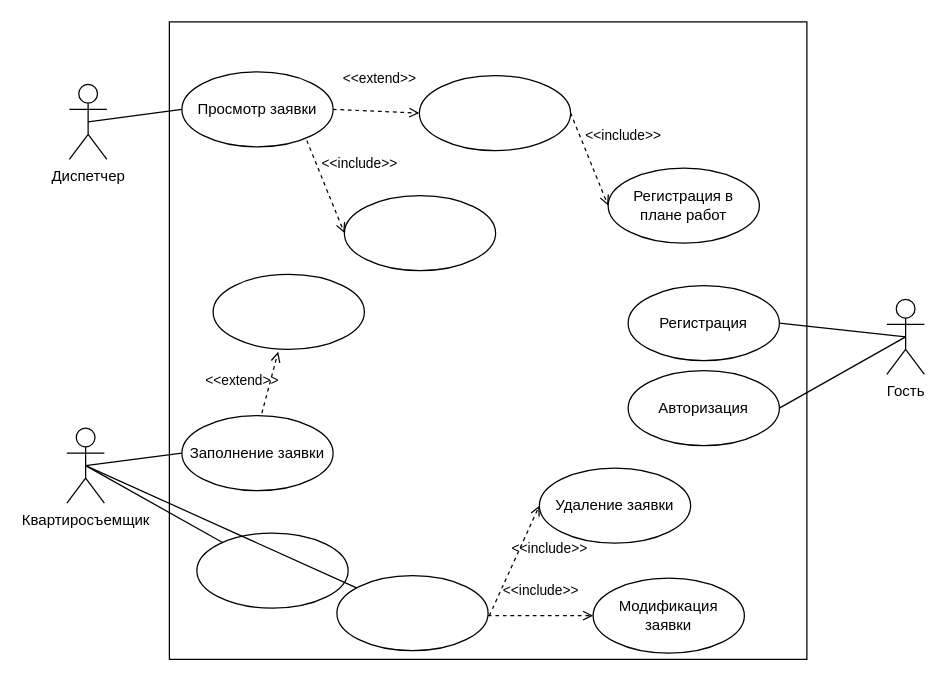
Image size: 946x681. Some labels were removed from this diagram. Here are the shapes that lost their labels. From the top down, the centre of each, then its label:
At point (494, 112): "Формирование бригады".
At point (419, 232): "Изменение содержимого заявки".
At point (288, 311): "Отправка заявки".
At point (272, 570): "Выйти из системы".
At point (412, 612): "Просмотр заявок".
